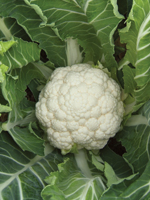cauliflower: (35, 63, 123, 153)
